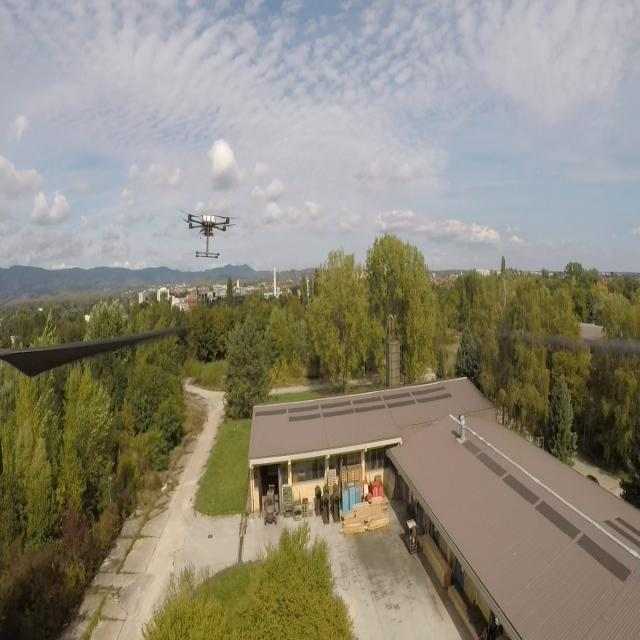UAV: (174, 205, 241, 255)
